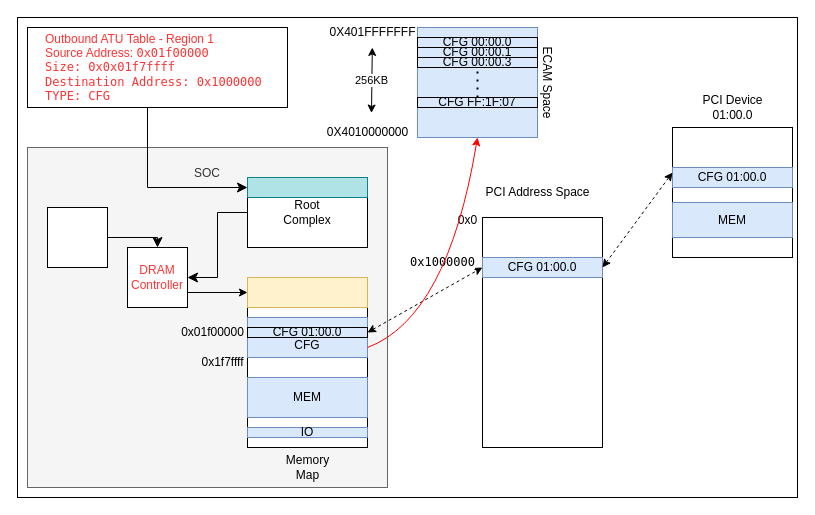
Image size: 815x515. Some labels were removed from this diagram. Each missing label, with the centre of its shape:
"ATU" goes at (307,187).
"CPU" goes at (77,237).
"DDR" goes at (307,292).
